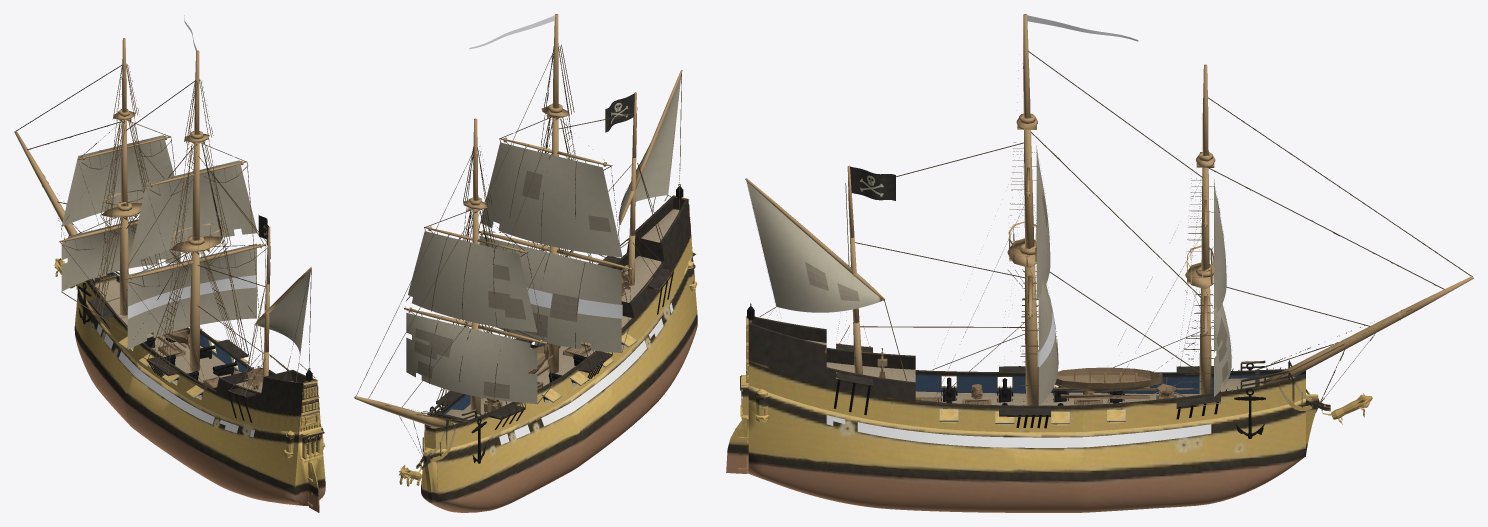
Rendered from flute.glb.
The picture shows the model from 3 angles, left to right: view 1: azimuth 30°, elevation 25°; view 2: azimuth 150°, elevation 25°; view 3: azimuth 270°, elevation 25°; orthographic projection. The views are drawn at different scales.
Visible parts, largest first — view 1: Sails, Hull, Rigging, Masts, Bulwarks, Tops, Sail_Band, Castle_Quarter, Hull_Stripe, Deck_Main, Castle_Poop, Channels (+8 smaller); view 2: Sails, Hull, Rigging, Bulwarks, Sail_Patches, Masts, Castle_Poop, Hull_Stripe, Castle_Quarter, Channels, Sail_Band, Deck_Main (+12 smaller); view 3: Hull, Bulwarks, Sails, Masts, Rigging, Hull_Stripe, Castle_Quarter, Deck_Furniture, Castle_Poop, Tops, Bowsprit, Channels (+4 smaller).
Part boxes in pixels (box(x1,y1,x2,y2)): Sails: box(61, 135, 310, 361); Hull: box(74, 288, 325, 505); Rigging: box(16, 64, 315, 396); Masts: box(119, 38, 270, 385); Bulwarks: box(79, 272, 300, 431); Tops: box(101, 109, 222, 254); Sail_Band: box(128, 275, 256, 318); Castle_Quarter: box(216, 367, 301, 413); Hull_Stripe: box(96, 323, 254, 437); Deck_Main: box(108, 298, 234, 398); Castle_Poop: box(261, 370, 315, 399); Channels: box(88, 297, 256, 397); Sails: box(406, 75, 681, 403); Hull: box(421, 254, 697, 512); Rigging: box(356, 44, 686, 468); Bulwarks: box(425, 233, 692, 449); Sail_Patches: box(414, 164, 639, 398); Masts: box(470, 14, 636, 414); Castle_Poop: box(626, 196, 689, 261); Hull_Stripe: box(499, 303, 673, 444); Castle_Quarter: box(610, 218, 690, 318); Channels: box(436, 256, 673, 419); Sail_Band: box(527, 287, 622, 318); Deck_Main: box(463, 316, 631, 414); Hull: box(748, 385, 1305, 512); Bulwarks: box(748, 361, 1305, 432); Sails: box(746, 145, 1231, 405); Masts: box(847, 14, 1211, 405); Rigging: box(760, 51, 1472, 412); Hull_Stripe: box(826, 415, 1211, 447); Castle_Quarter: box(748, 345, 915, 401); Deck_Furniture: box(878, 367, 1193, 405); Castle_Poop: box(748, 316, 826, 368); Tops: box(1007, 113, 1215, 289); Bowsprit: box(1262, 276, 1473, 384); Channels: box(836, 343, 1220, 416).
Bounding box in the file's own units: 10.78 × 28.78 × 40.26.
7 materials, 4 textured.
